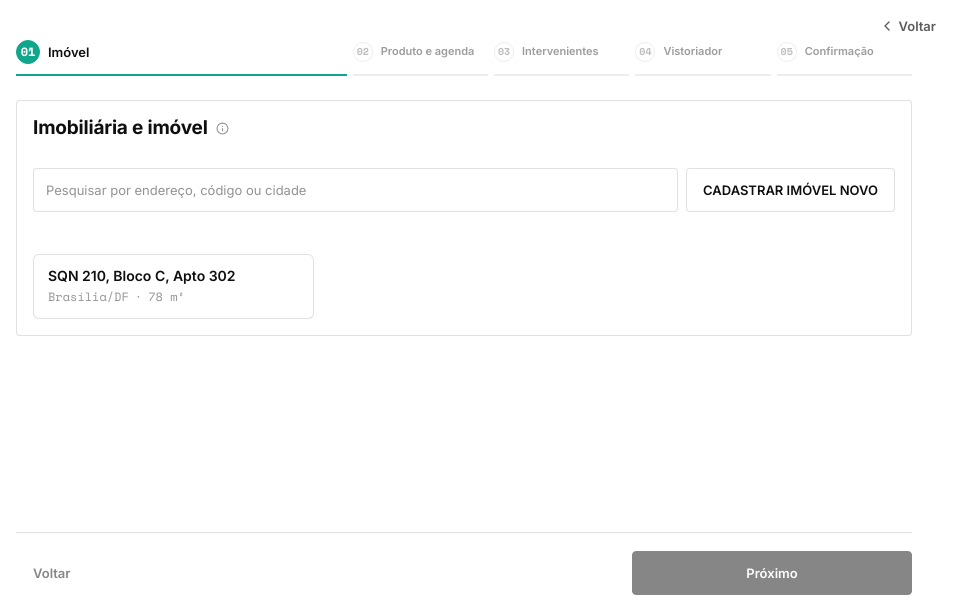
Test case: Wizard › imob_gerencia: lista imóveis da própria imobiliária sem seletor de cliente/imobiliária
Expected: the button "Próximo" is disabled, [632,551,912,595]
Click the text "SQN 210, Bloco C, Apto 302". click: point(153, 276)
box: [48,267,258,285]
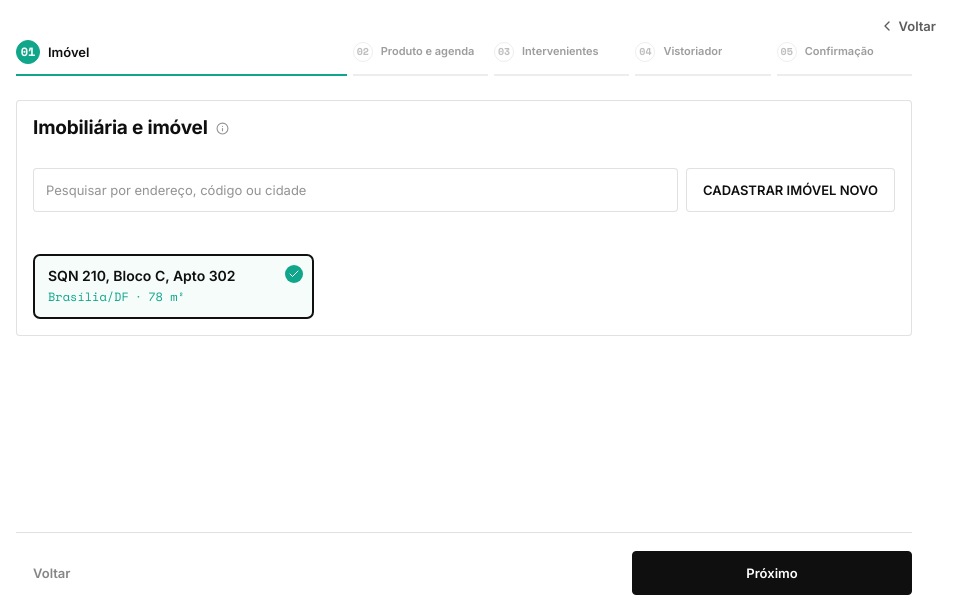
Now the button "Próximo" is enabled, box [632,551,912,595]
